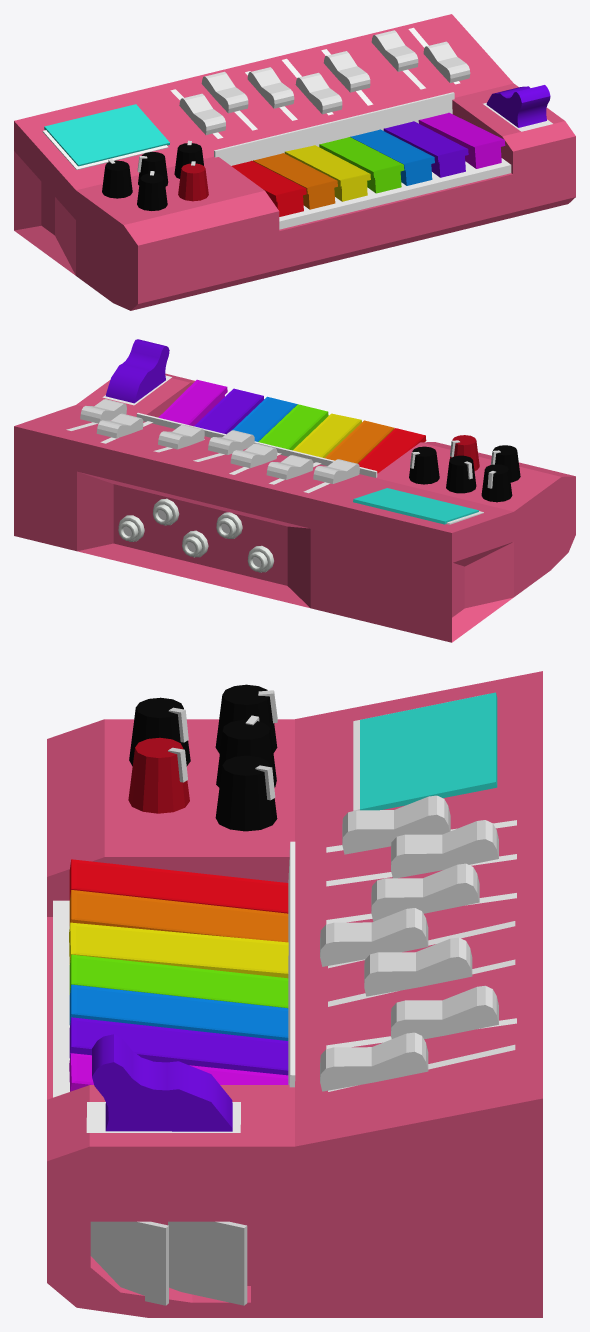
The model's file is pink_synth.glb.
The picture shows the model from 3 angles, top to bottom: view 1: azimuth 30°, elevation 25°; view 2: azimuth 150°, elevation 25°; view 3: azimuth 270°, elevation 25°; orthographic projection. The views are drawn at different scales.
Visible parts, largest first — view 1: Cube, Cube.010, Cube.008, Cube.009, key_7, key_4, key_6, key_3, key_2, key_5, Cylinder.005, key_1 (+13 smaller); view 2: Cube, Cylinder.005, Cube.008, key_7, key_4, key_6, key_3, key_2, key_1, key_5, Cube.010, Cylinder.002 (+16 smaller); view 3: Cube, Cube.008, Cylinder.005, key_3, key_5, key_6, key_2, key_1, key_4, Cube.013, Cube.012, Cube.017 (+15 smaller).
Part boxes in pixels (x1,y1,x2,y2): Cube: [14, 14, 575, 310]; Cube.010: [214, 92, 454, 165]; Cube.008: [44, 104, 169, 166]; Cube.009: [279, 158, 511, 229]; key_7: [418, 112, 505, 168]; key_4: [319, 137, 404, 193]; key_6: [383, 121, 468, 177]; key_3: [284, 145, 370, 201]; key_2: [253, 153, 337, 209]; key_5: [350, 129, 434, 185]; Cylinder.005: [486, 85, 550, 127]; key_1: [231, 160, 306, 216]; Cube: [14, 373, 575, 642]; Cylinder.005: [106, 339, 169, 403]; Cube.008: [353, 488, 478, 524]; key_7: [158, 379, 227, 426]; key_4: [258, 404, 328, 450]; key_6: [194, 388, 264, 434]; key_3: [293, 413, 361, 457]; key_2: [325, 420, 394, 463]; key_1: [358, 428, 426, 473]; key_5: [232, 396, 297, 441]; Cube.010: [136, 412, 377, 477]; Cylinder.002: [409, 446, 439, 484]; Cube: [47, 671, 542, 1317]; Cube.008: [360, 692, 497, 810]; Cylinder.005: [92, 1034, 232, 1131]; key_3: [69, 922, 288, 978]; key_5: [69, 984, 288, 1040]; key_6: [69, 1017, 288, 1075]; key_2: [69, 890, 288, 942]; key_1: [69, 859, 288, 913]; key_4: [69, 954, 288, 1008]; Cube.013: [168, 1221, 247, 1305]; Cube.012: [90, 1221, 168, 1305]; Cube.017: [364, 937, 472, 996].
Size of the model in its own units: 0.6161 by 0.1616 by 0.299.
